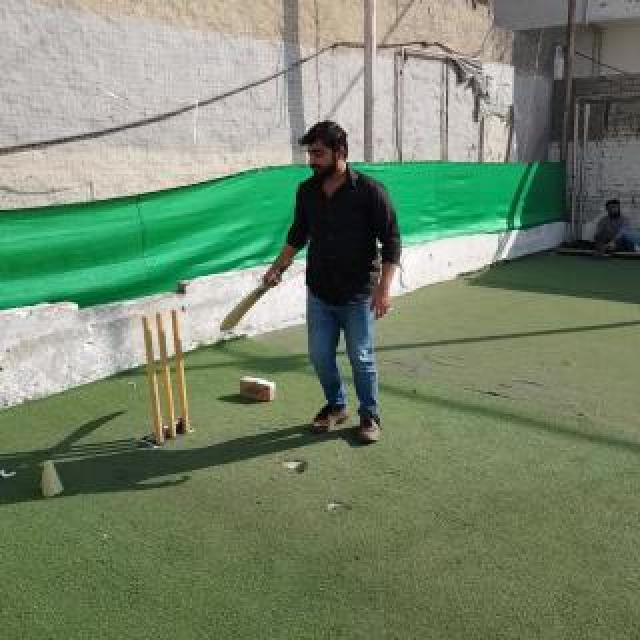bat: (220, 258, 294, 332)
